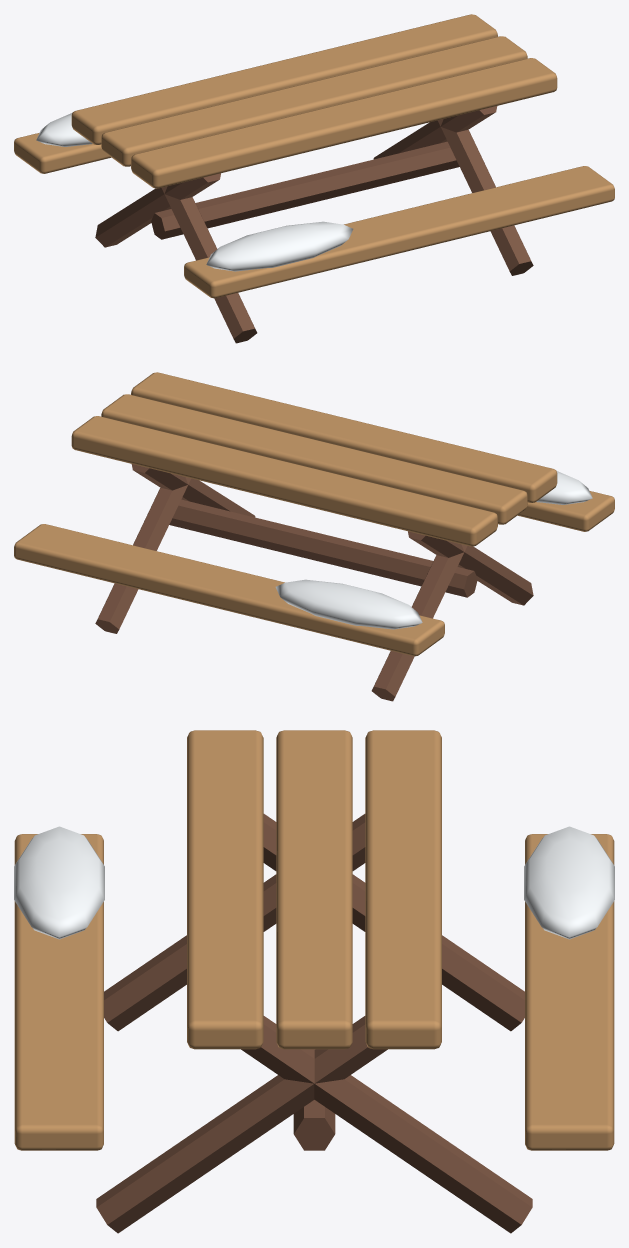
The model's file is alpine-snow-village-alpine-picnic-table-53fb4eda__19825.glb.
3 renders of one model, top to bottom at view 1: azimuth 30°, elevation 25°; view 2: azimuth 150°, elevation 25°; view 3: azimuth 270°, elevation 25°, orthographic. The views are drawn at different scales.
Parts seen in each view (by area): view 1: alpine-picnic-table-oak, alpine-picnic-table-wood, alpine-picnic-table-snow; view 2: alpine-picnic-table-oak, alpine-picnic-table-wood, alpine-picnic-table-snow; view 3: alpine-picnic-table-oak, alpine-picnic-table-wood, alpine-picnic-table-snow.
Boxes of the visible parts, x1=… form: alpine-picnic-table-oak: x1=14, y1=14, x2=614, y2=298; alpine-picnic-table-wood: x1=95, y1=106, x2=533, y2=343; alpine-picnic-table-snow: x1=36, y1=113, x2=353, y2=271; alpine-picnic-table-oak: x1=14, y1=372, x2=614, y2=656; alpine-picnic-table-wood: x1=95, y1=464, x2=533, y2=701; alpine-picnic-table-snow: x1=275, y1=471, x2=592, y2=629; alpine-picnic-table-oak: x1=14, y1=730, x2=614, y2=1150; alpine-picnic-table-wood: x1=96, y1=814, x2=532, y2=1233; alpine-picnic-table-snow: x1=14, y1=826, x2=614, y2=939.
Size of the model in its own units: 2.2 by 0.8749 by 1.89.
